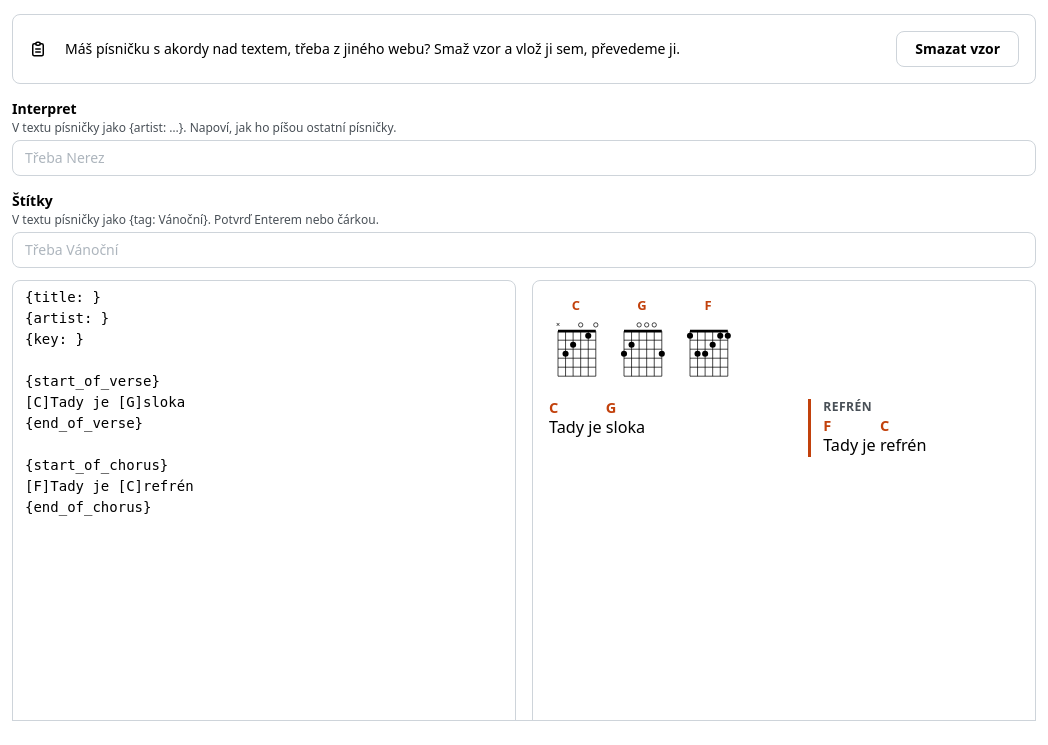
ChordProEditor › says a song can just be pasted, and clears the example for it
The image size is (1048, 745).
Expected: the text "Smaž vzor a vlož ji sem" is shown, 65,39 -> 680,58
Click the button "Smazat vzor" at (958, 49), box 896,31 -> 1019,67
(page scrolled)
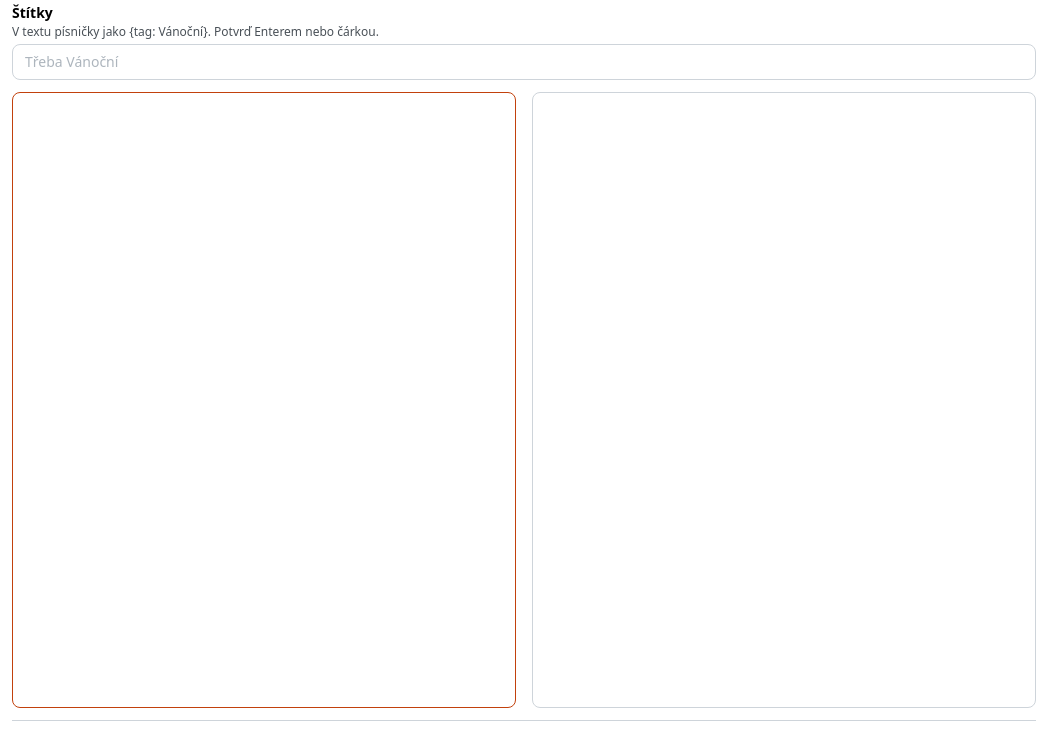
Expected: the text box named "ChordPro" is empty, 12,92 -> 516,708
Expected: the text "Smaž vzor a vlož ji sem" is gone
